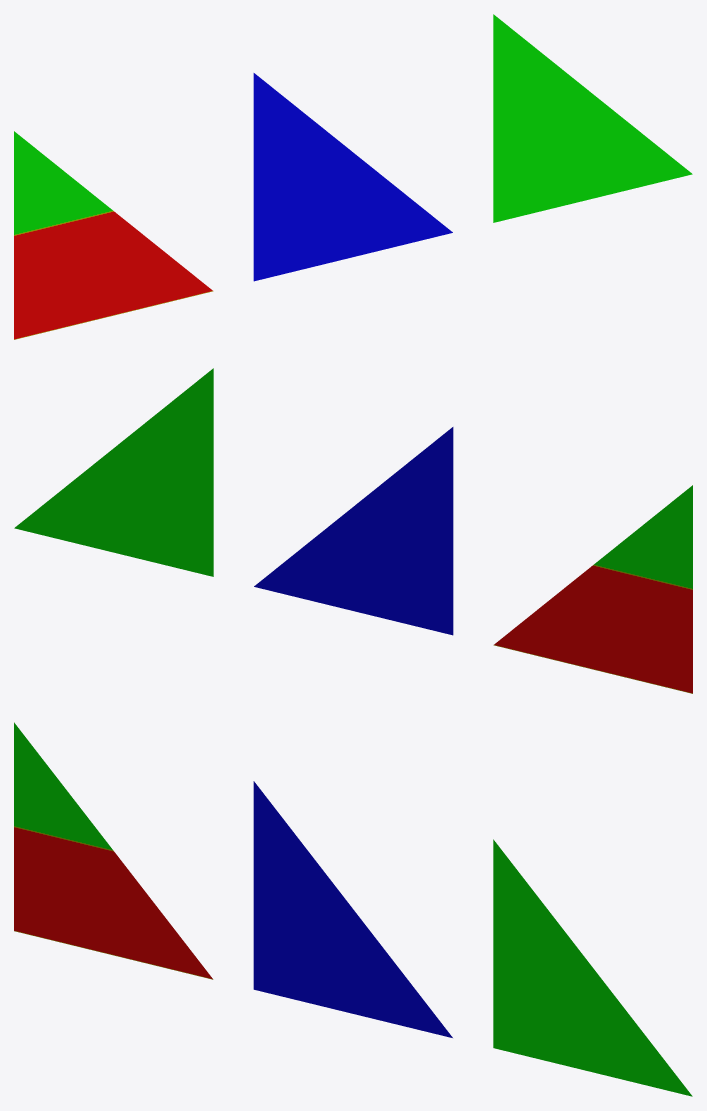
The model's file is merge-materials.glb.
3 renders of one model, top to bottom at view 1: azimuth 30°, elevation 25°; view 2: azimuth 150°, elevation 25°; view 3: azimuth 330°, elevation 25°, orthographic.
Bounding box in the file's own units: 3.4 × 1 × 0.
Materials: 3 (2 with a texture image).
